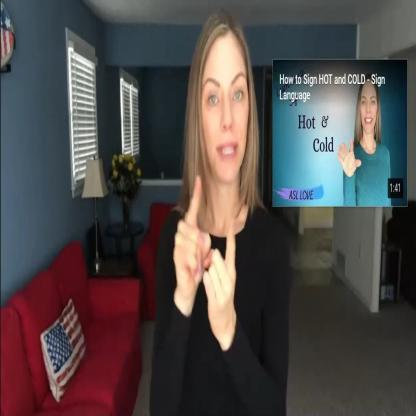NiceToMeetYou: (151, 5, 293, 416)
